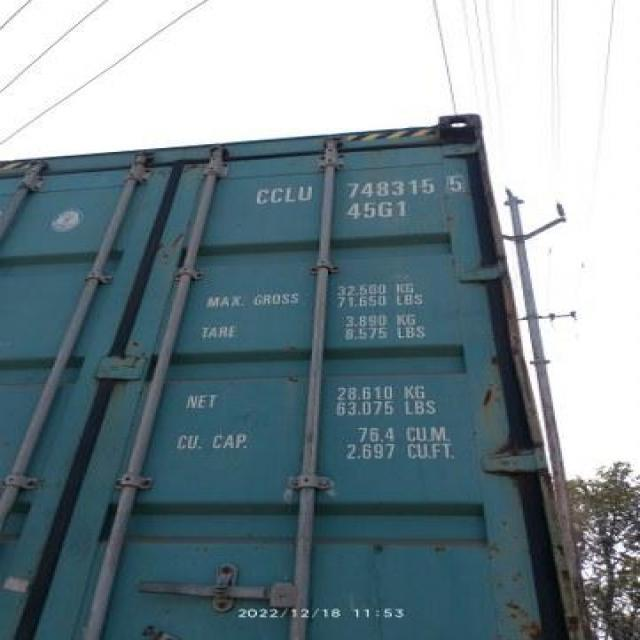container_number_h: (220, 163, 486, 246)
